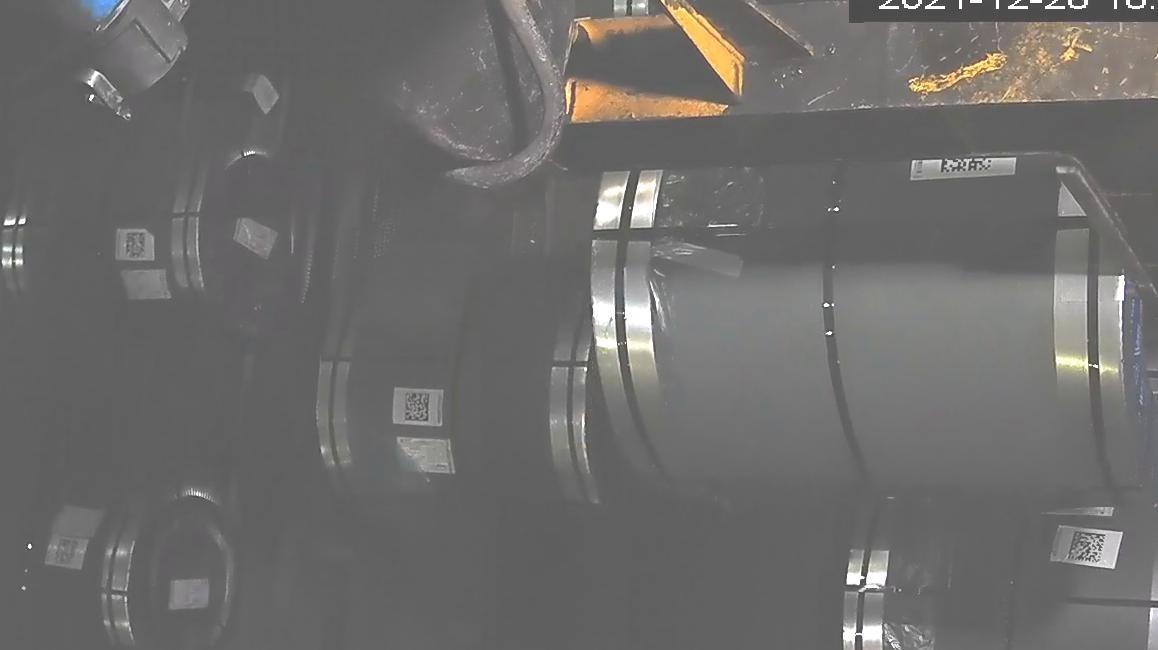data matrix: (1066, 529, 1109, 567), (401, 391, 434, 425), (53, 536, 84, 569), (122, 231, 152, 263)
